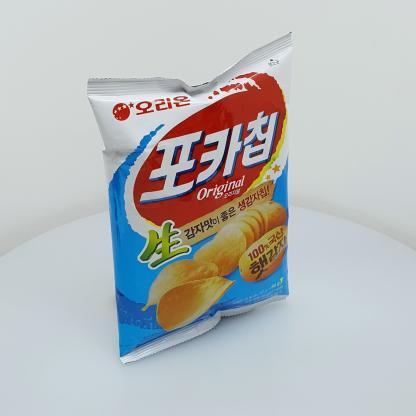Plastic Packaging: (87, 32, 301, 360)
